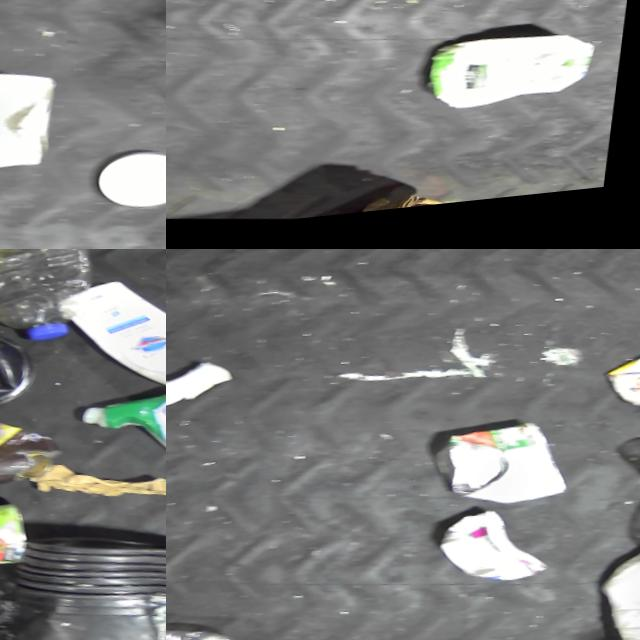can: (425, 418, 578, 528), (0, 491, 40, 585)
non_white_jug: (425, 29, 600, 135)
plastic_bottle: (0, 249, 95, 356)
